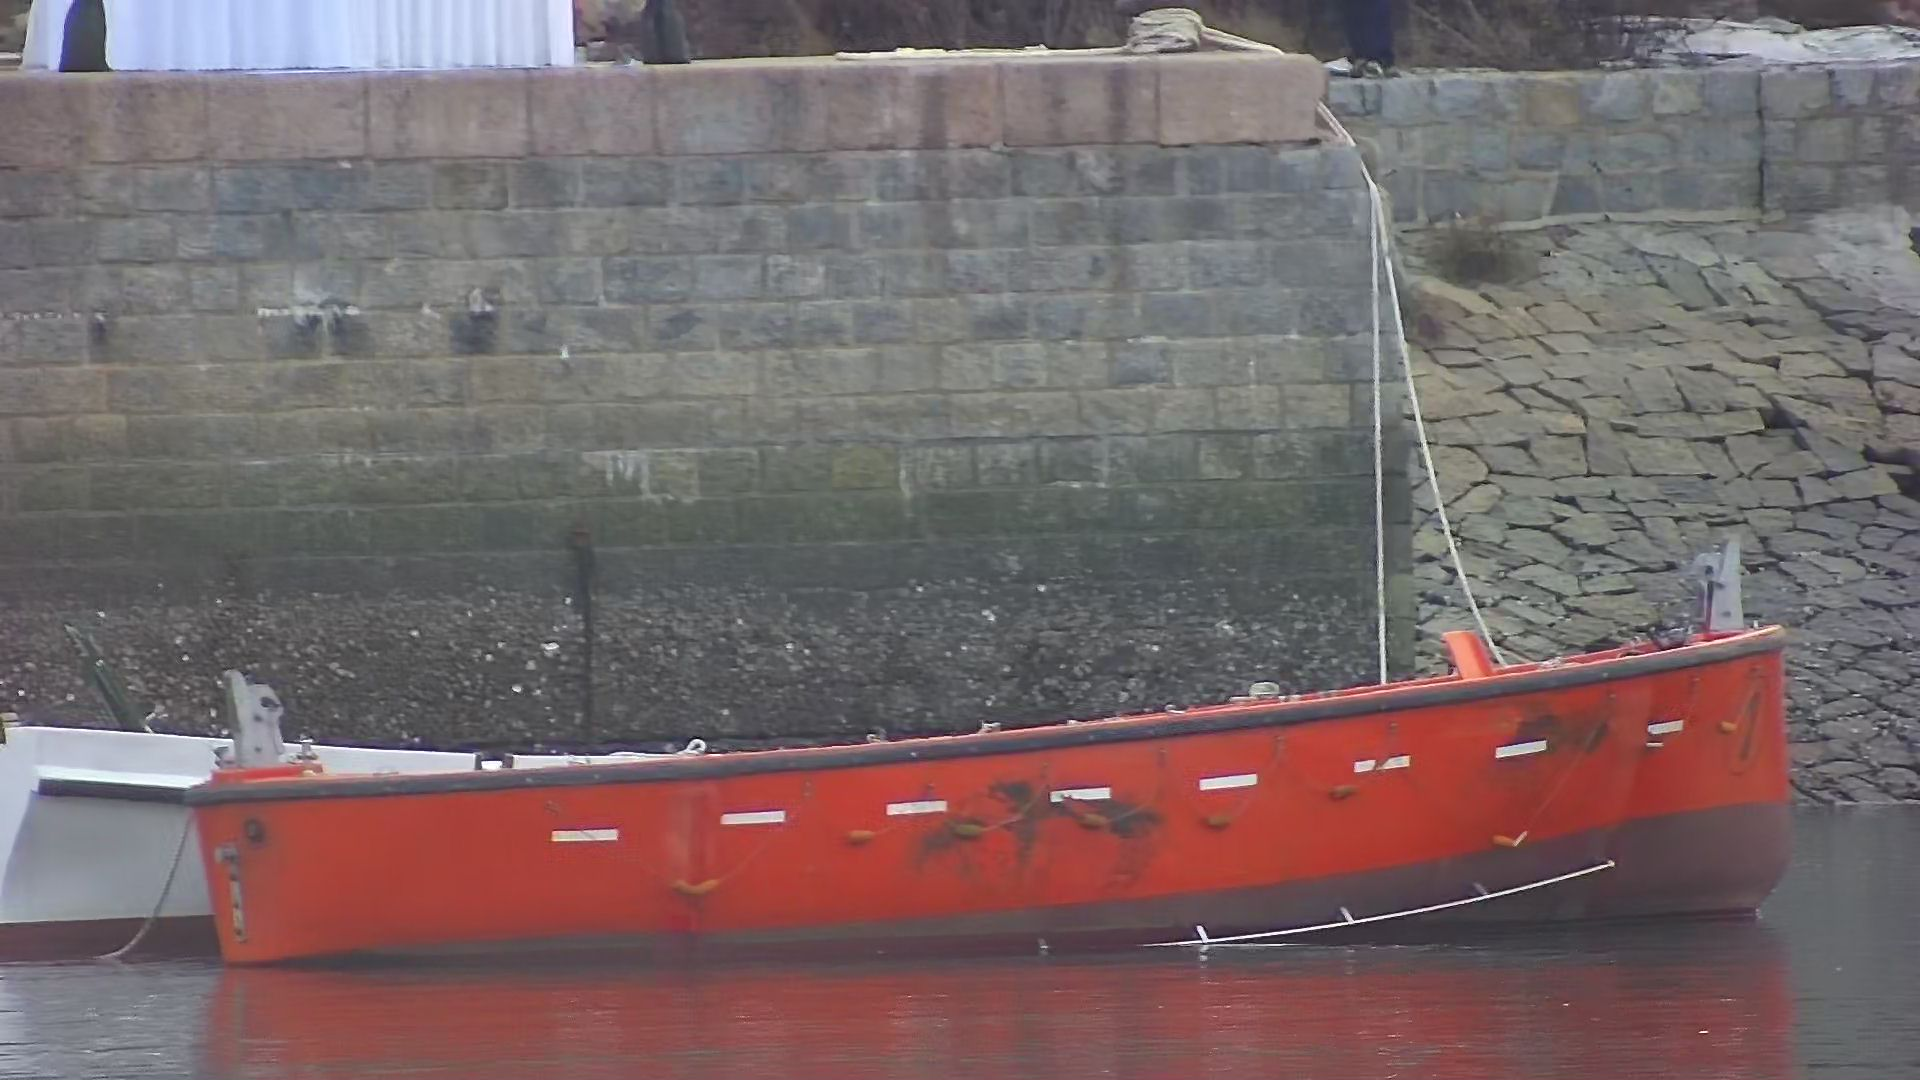boat: (154, 611, 1836, 957)
